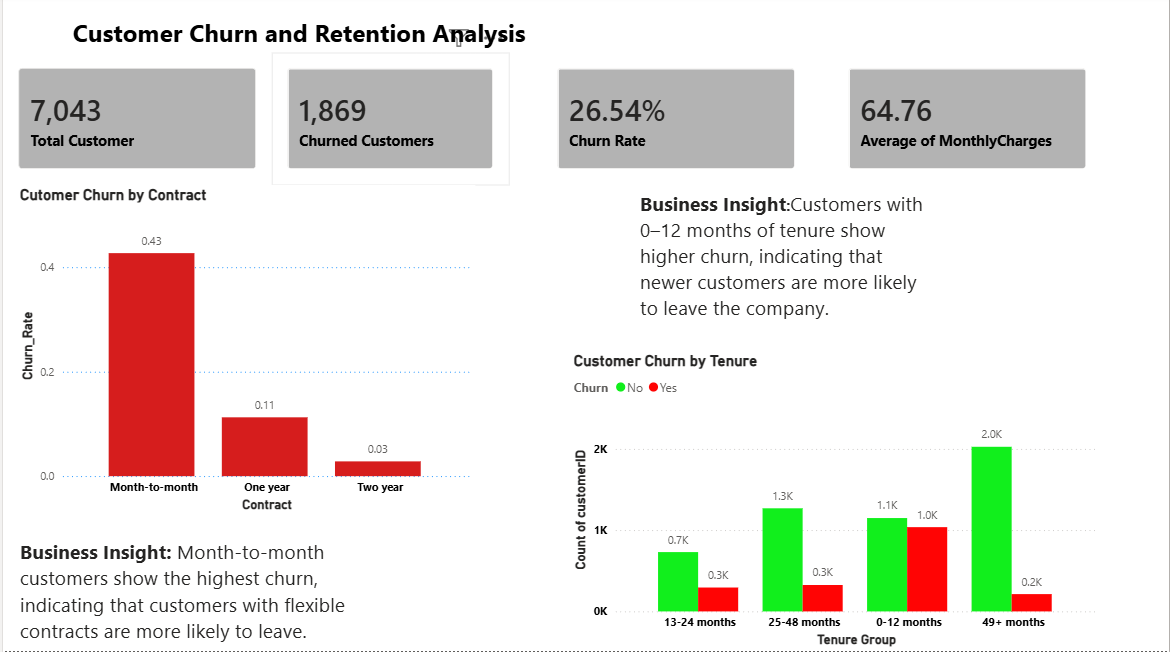

Layout of this report page (visuals, bound fields, positions):
{"tool":"powerbi","page":{"name":"Overview","canvas":[1280,720],"ordinal":0},"visuals":[{"type":"cardVisual","fields":{"Data":["CountNonNull(customer_churn_clean.customerID)"]},"box":[0,63.1,295,145.5],"z":0},{"type":"cardVisual","fields":{"Data":["customer_churn_clean.Churned_Customer"]},"box":[295,63.1,260.7,145.5],"z":1000},{"type":"cardVisual","fields":{"Data":["customer_churn_clean.Churn_Rate"]},"box":[591.4,63.1,295,145.5],"z":2000},{"type":"cardVisual","fields":{"Data":["Avg(customer_churn_clean.MonthlyCharges)"]},"box":[911.2,63.1,295,145.5],"z":3000},{"type":"clusteredColumnChart","title":"Cutomer Churn by Contract","fields":{"Category":["customer_churn_clean.Contract"],"Y":["customer_churn_clean.Churn_Rate"]},"box":[13.7,208.6,505,363.6],"z":5000},{"type":"clusteredColumnChart","title":"Customer Churn by Tenure","fields":{"Y":["CountNonNull(customer_churn_clean.customerID)"],"Category":["customer_churn_clean.Tenure Group"],"Series":["customer_churn_clean.Churn"]},"box":[621.6,391.1,584.6,329.3],"z":6000},{"type":"textbox","box":[13.7,591.4,397.9,129],"z":6002},{"type":"textbox","box":[48,0,554.4,93.3],"z":6003},{"type":"textbox","box":[694.3,208.6,326.6,163.3],"z":6004}]}

Visuals, with their boxes in screenshot pixels (x1, y1, x2, y2), scaled from the page's 1280x720 canvas onto the 1170x652 screenshot:
cardVisual - CountNonNull(customer_churn_clean.customerID): box=[0, 57, 270, 189]
cardVisual - customer_churn_clean.Churned_Customer: box=[270, 57, 508, 189]
cardVisual - customer_churn_clean.Churn_Rate: box=[541, 57, 810, 189]
cardVisual - Avg(customer_churn_clean.MonthlyCharges): box=[833, 57, 1103, 189]
"Cutomer Churn by Contract" clusteredColumnChart: box=[13, 189, 474, 518]
"Customer Churn by Tenure" clusteredColumnChart: box=[568, 354, 1103, 651]
textbox: box=[13, 536, 376, 651]
textbox: box=[44, 0, 551, 84]
textbox: box=[635, 189, 933, 337]
